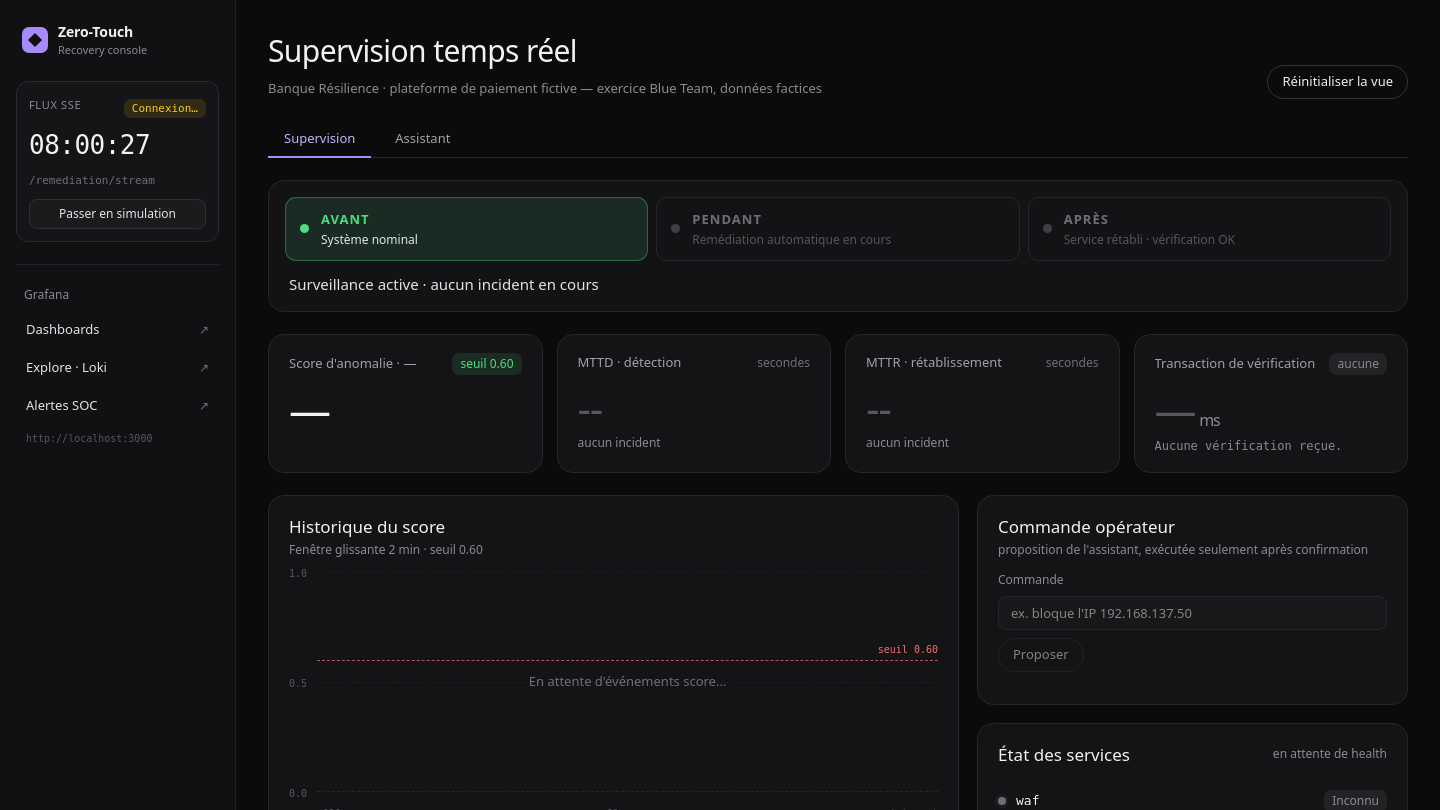
Test: Sources : simulation locale et déclencheurs › bascule manuelle réel <-> simulation
Click the button "Passer en simulation".
click(118, 214)  # box [29,199,206,229]
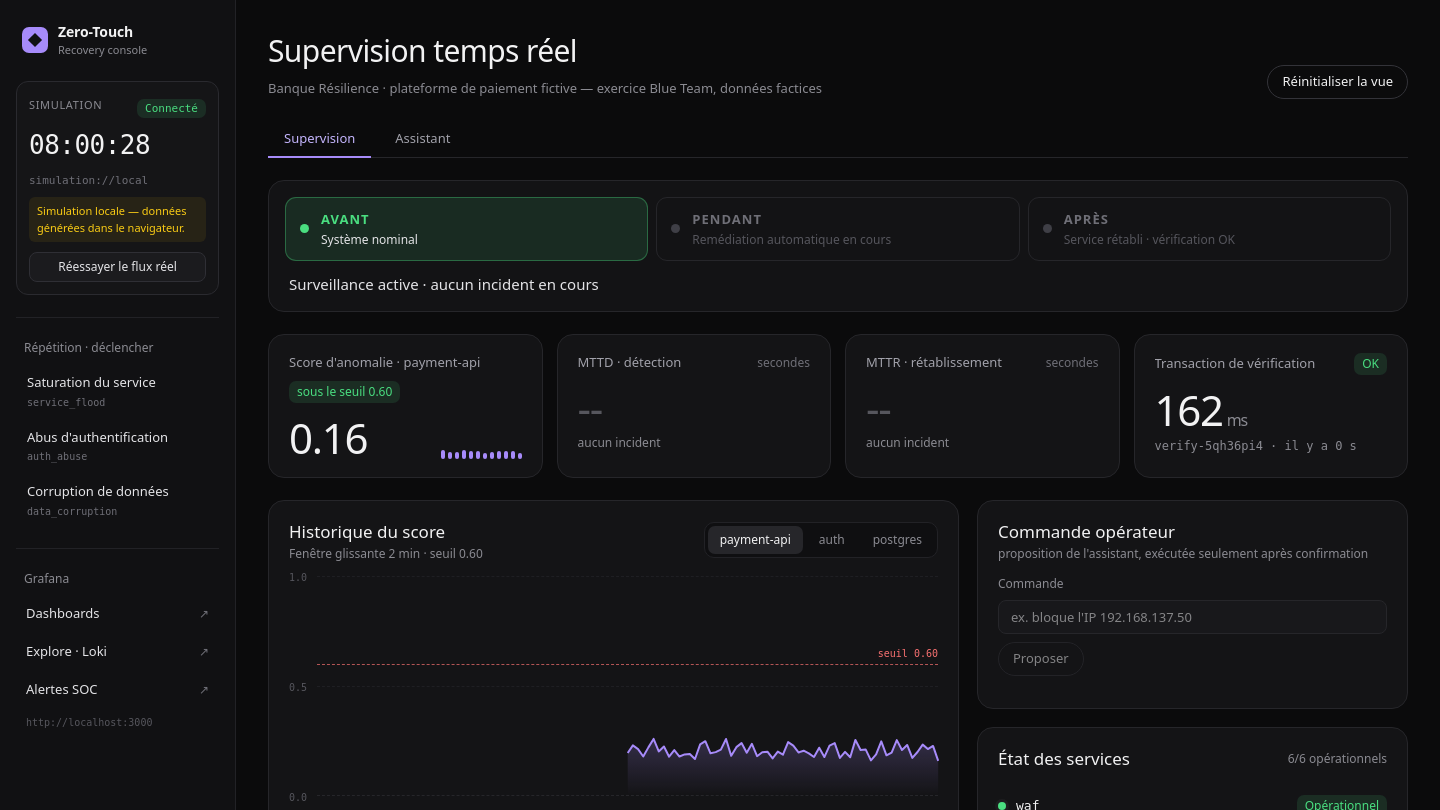
Check: the text "simulation://local" is shown, box [29,174,148,186]
Click the button "Réessayer le flux réel".
click(118, 267)  # box [29,252,206,282]
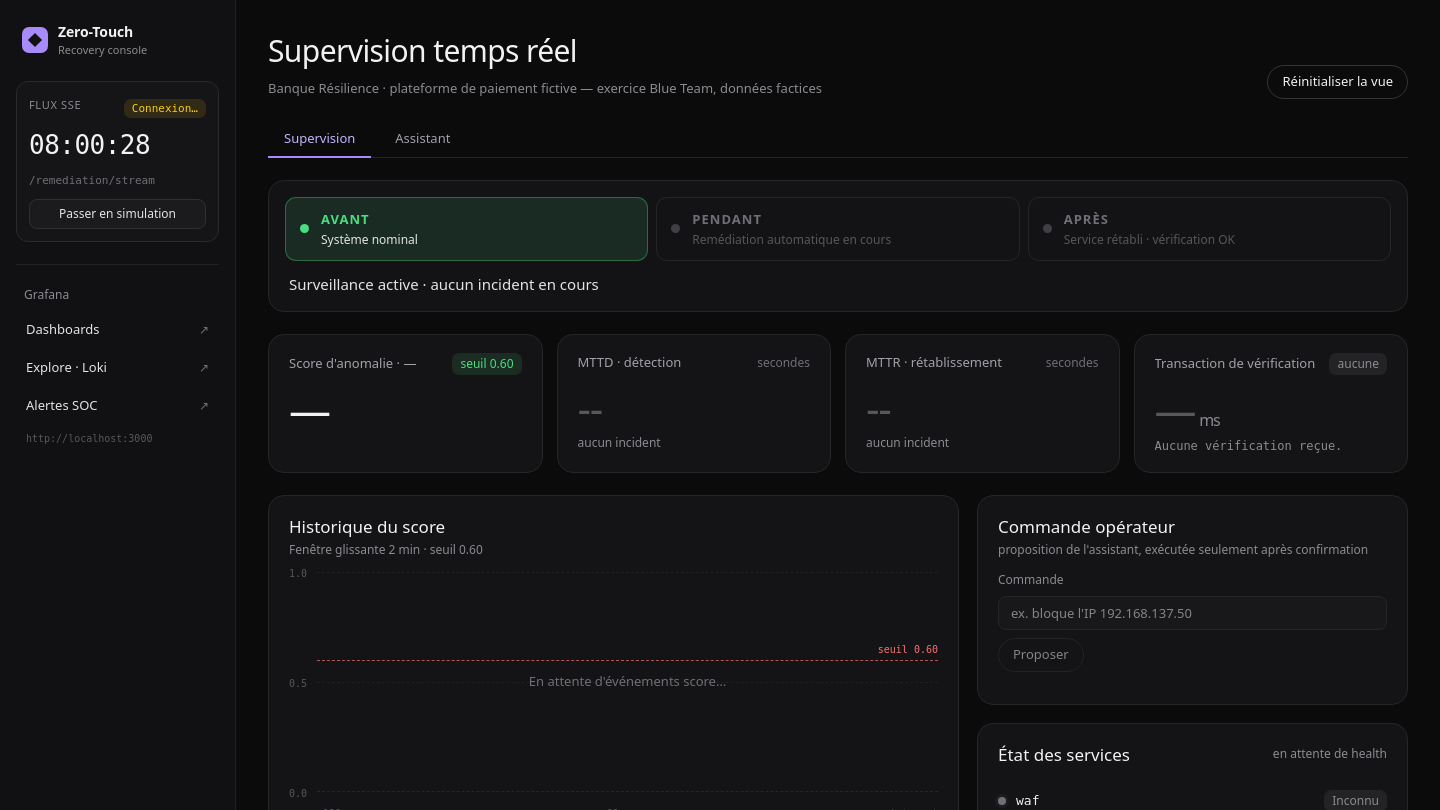
Check: the text "/remediation/stream" is shown, box [29,174,155,186]
